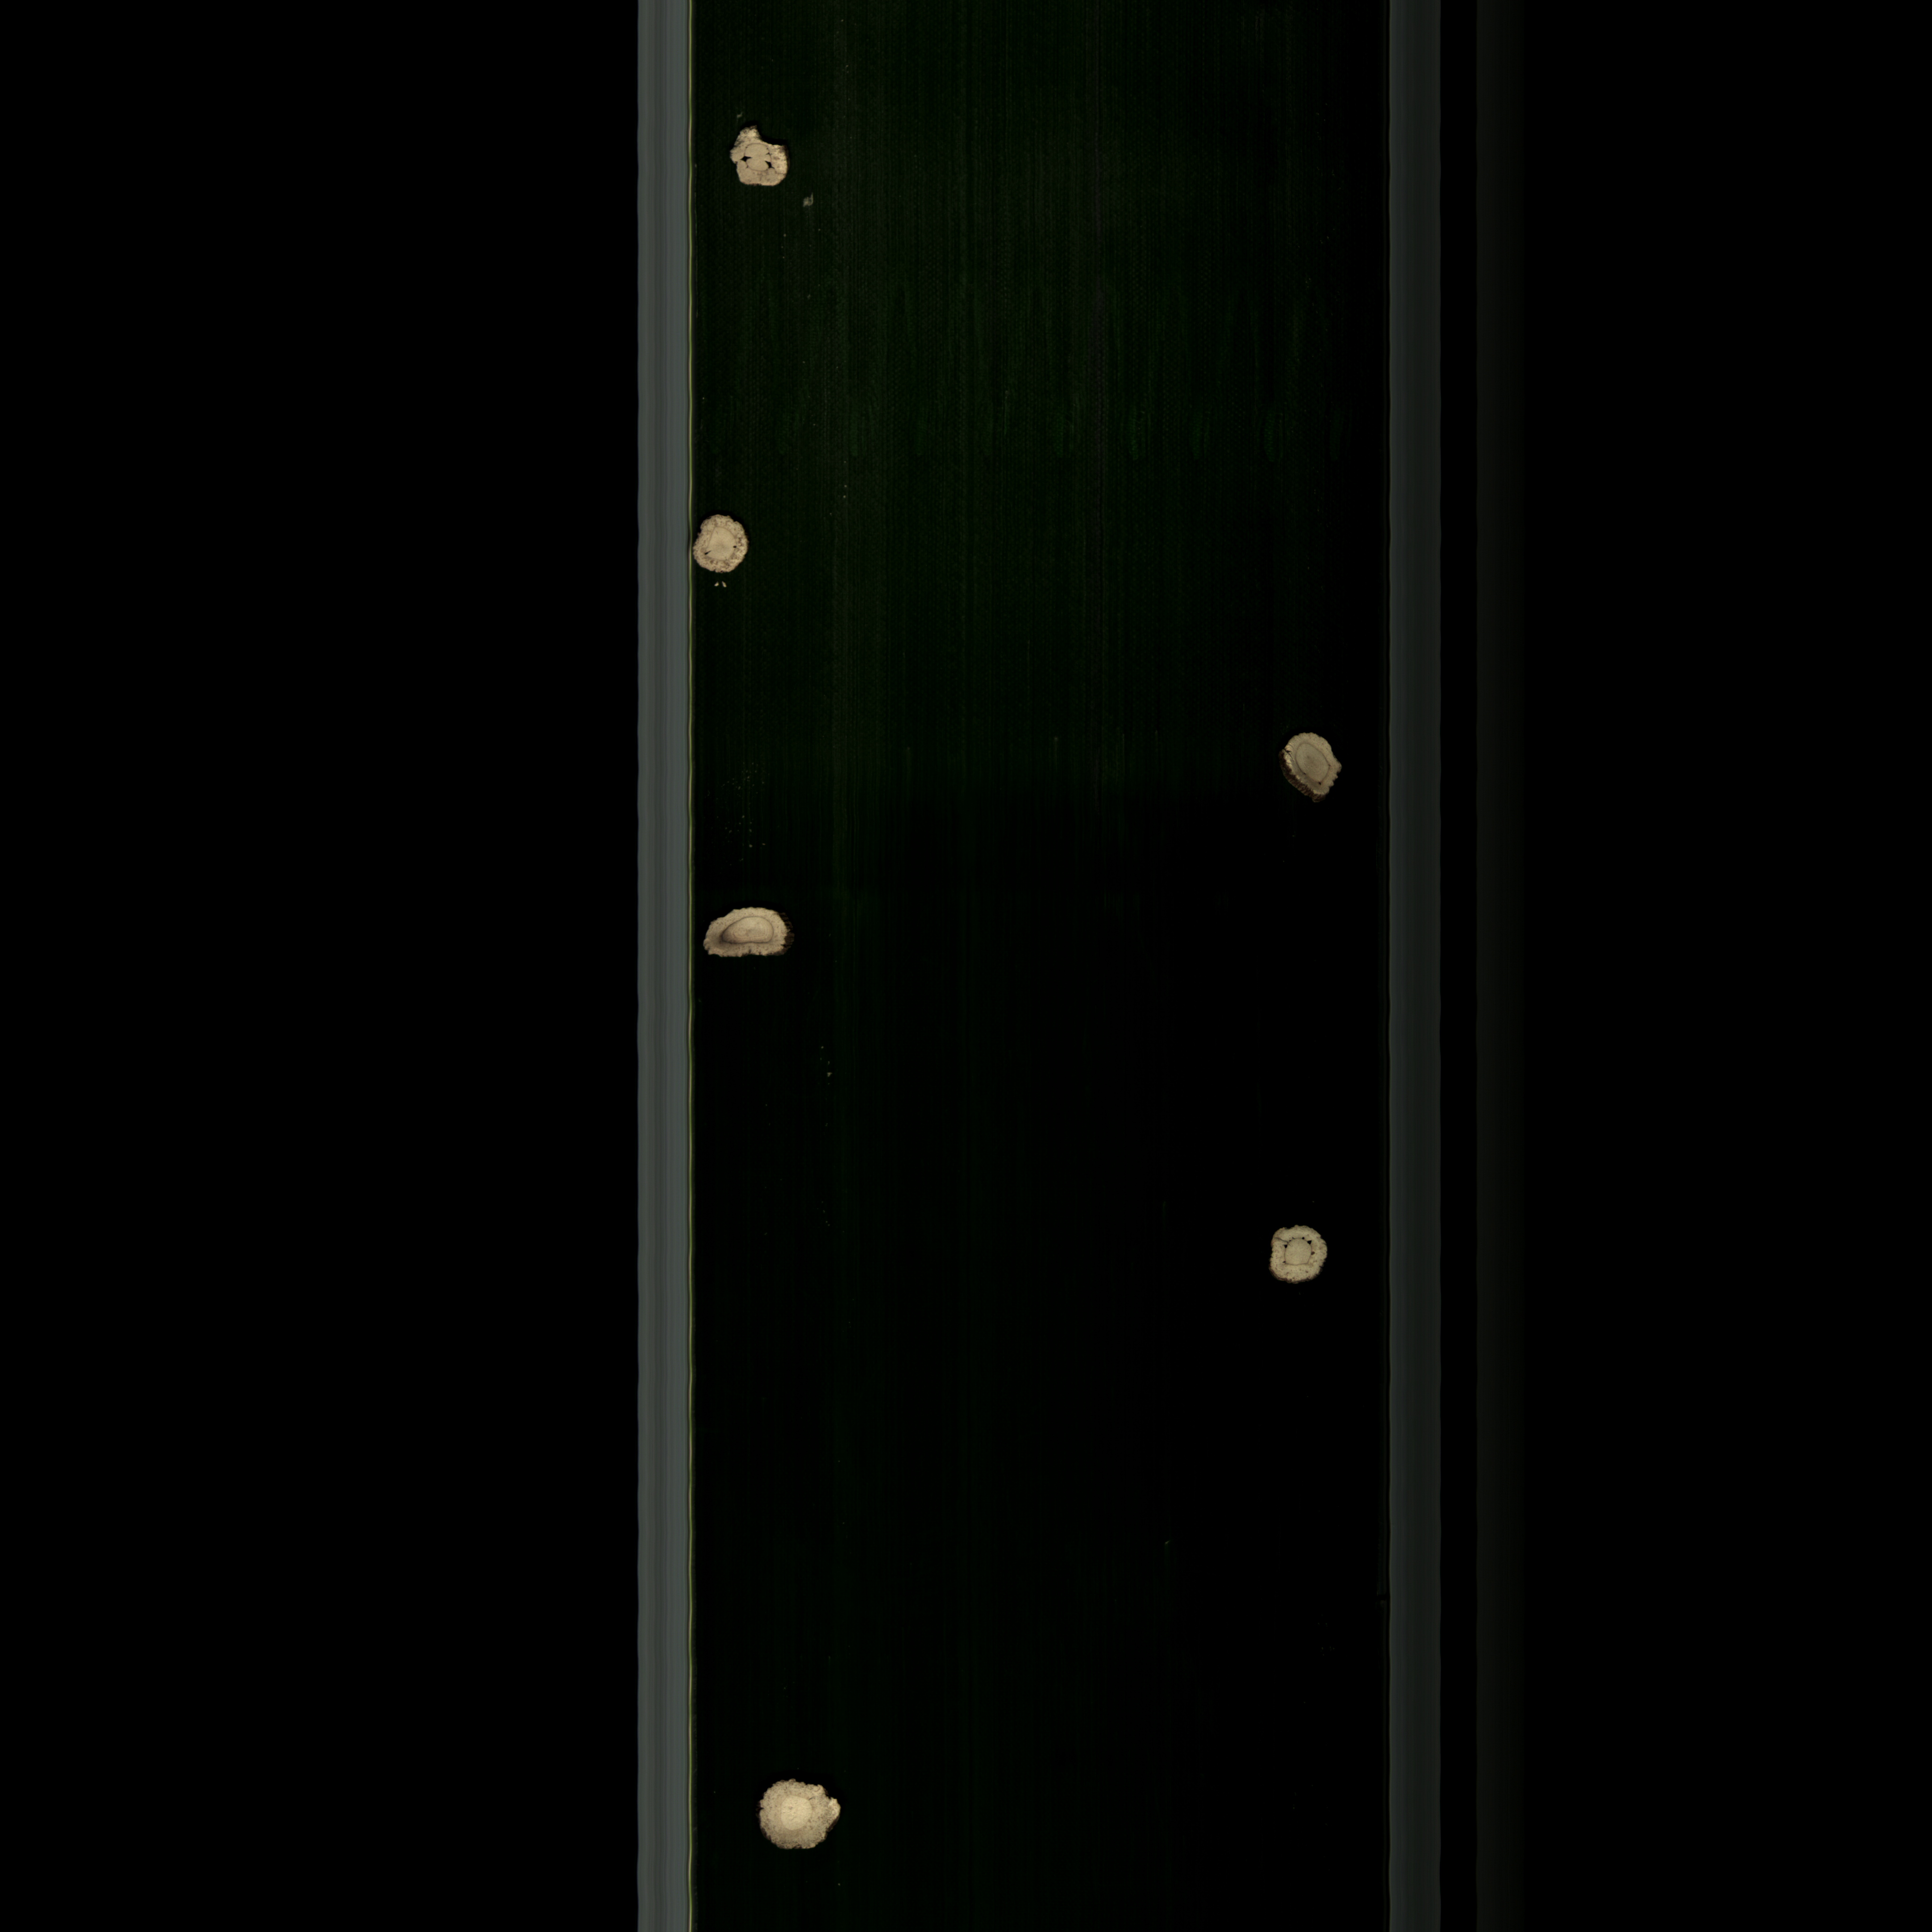hole: (1267, 1221, 1332, 1295)
moldy: (701, 902, 816, 966), (1276, 727, 1348, 803), (722, 119, 793, 191), (692, 513, 754, 579)
